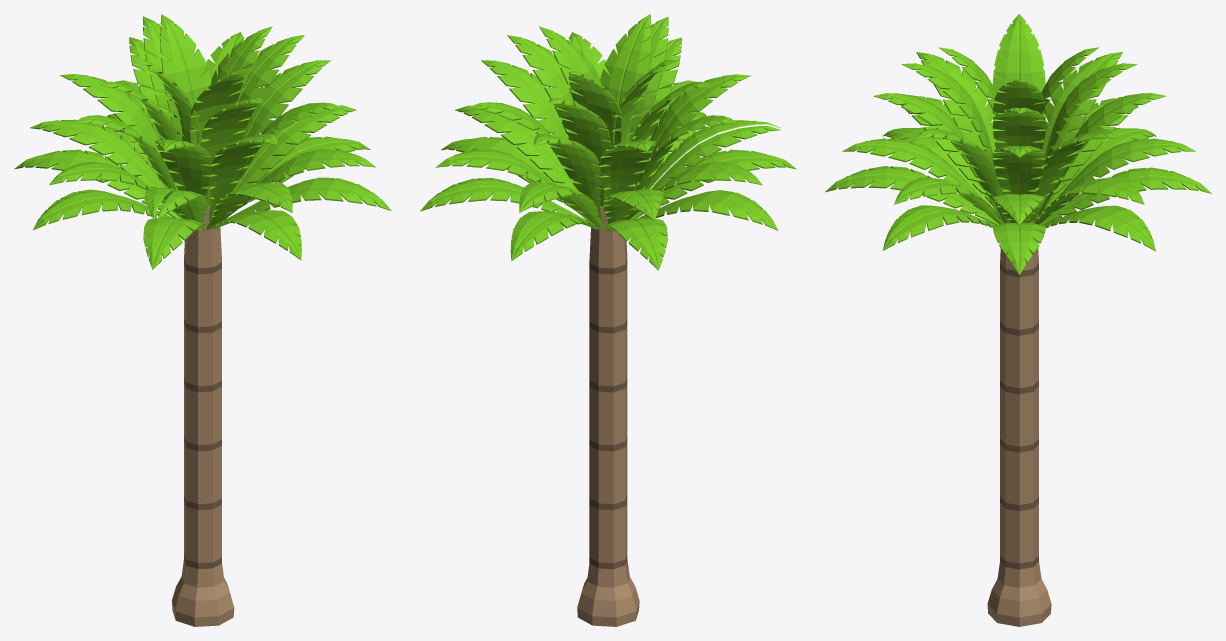
Rendered from Palm_Tree_Thick.fbx.
3 renders of one model, left to right at view 1: azimuth 30°, elevation 25°; view 2: azimuth 150°, elevation 25°; view 3: azimuth 270°, elevation 25°, orthographic.
Visible parts, largest first — view 1: Palm Tree Thick; view 2: Palm Tree Thick; view 3: Palm Tree Thick.
Part boxes in pixels (<box>): Palm Tree Thick: <box>14,14,391,626</box>; Palm Tree Thick: <box>420,14,796,626</box>; Palm Tree Thick: <box>825,14,1211,626</box>.
Size of the model in its own units: 257 by 415 by 257.
